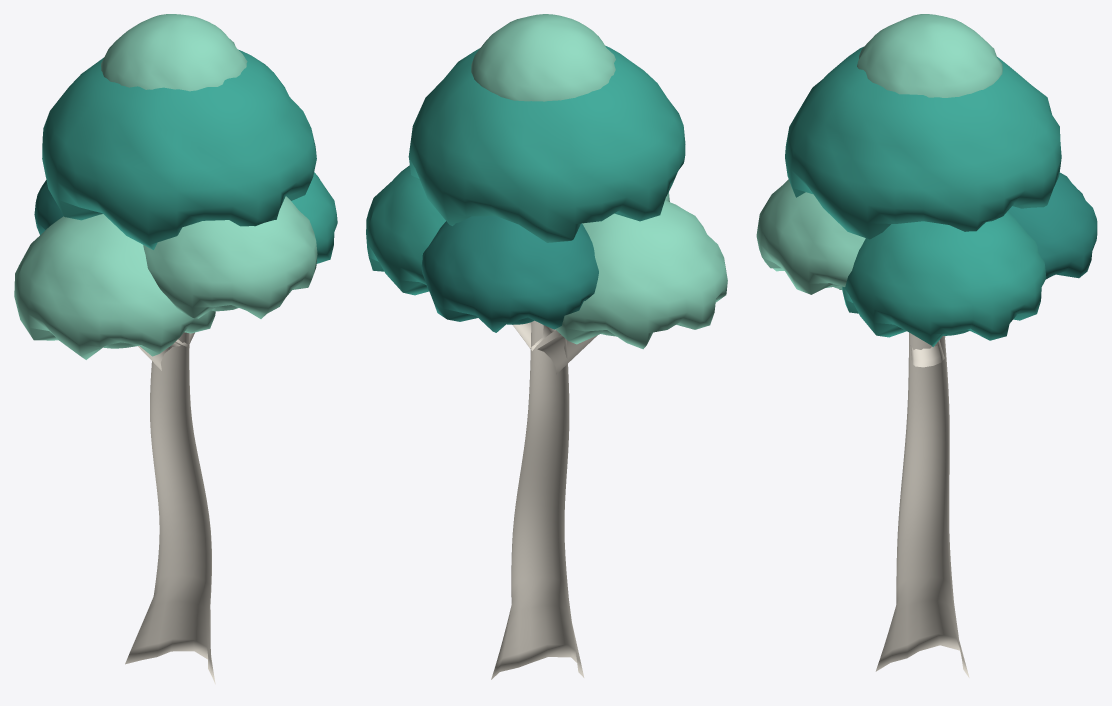
File: GROVE_TREE_V3.glb
3 renders of one model, left to right at view 1: azimuth 30°, elevation 25°; view 2: azimuth 150°, elevation 25°; view 3: azimuth 270°, elevation 25°, orthographic.
Parts seen in each view (by area): view 1: canopy_mint, canopy_fern, trunk, canopy_jade; view 2: canopy_fern, canopy_mint, trunk, canopy_jade; view 3: canopy_fern, canopy_mint, trunk, canopy_jade.
Boxes of the visible parts, x1,y1,x2,y2 form: canopy_mint: [14, 14, 317, 359]; canopy_fern: [42, 49, 337, 263]; trunk: [125, 332, 215, 684]; canopy_jade: [34, 180, 63, 234]; canopy_fern: [366, 45, 685, 295]; canopy_mint: [471, 14, 727, 349]; trunk: [491, 320, 597, 679]; canopy_jade: [421, 216, 598, 332]; canopy_fern: [785, 46, 1061, 346]; canopy_mint: [756, 14, 1002, 294]; trunk: [875, 332, 969, 677]; canopy_jade: [1007, 172, 1097, 279].
Size of the model in its own units: 14.95 by 29.45 by 13.98.
